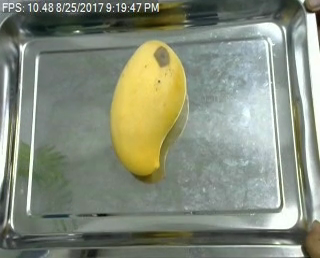Mango: (108, 36, 185, 181)
